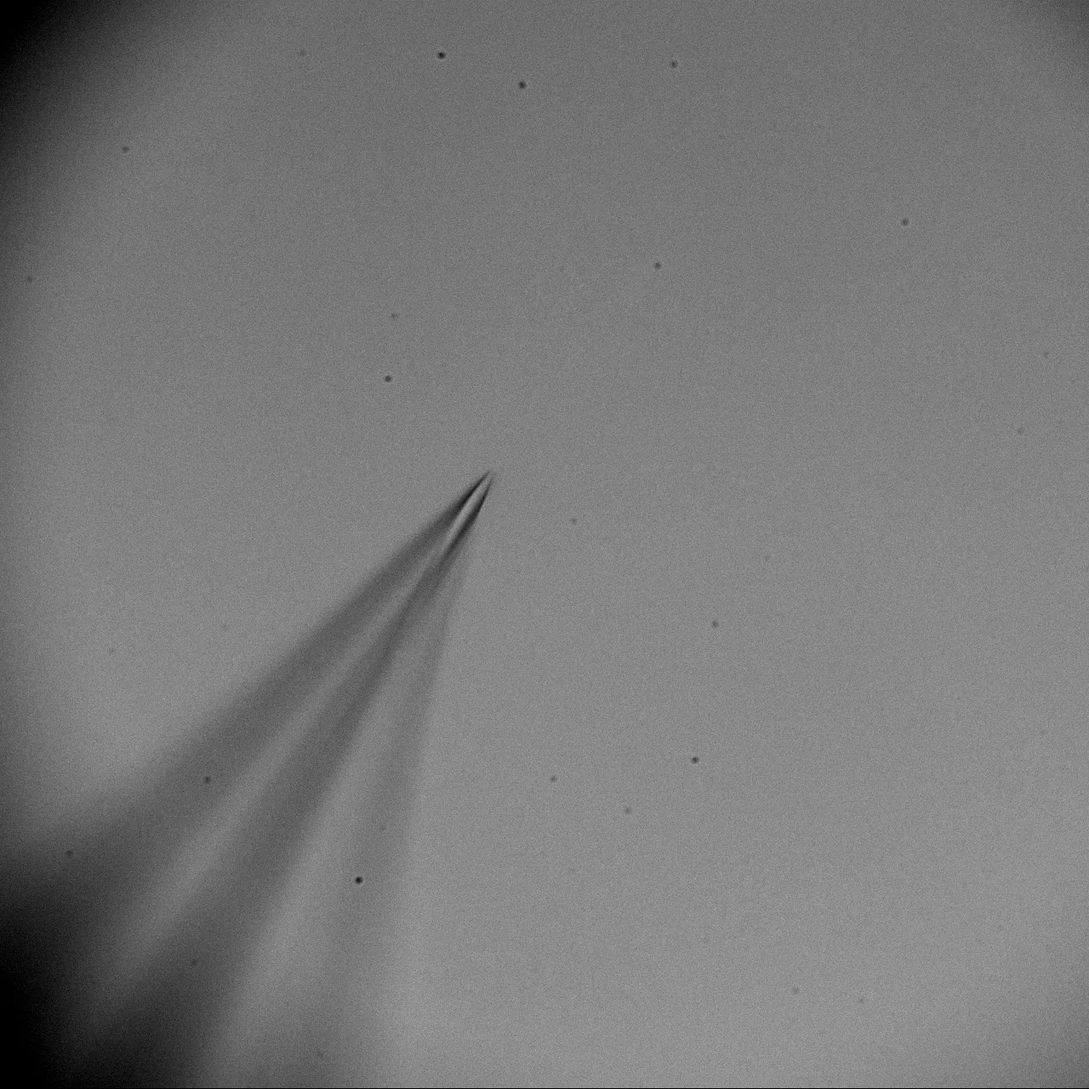tip: (393, 442, 520, 589)
